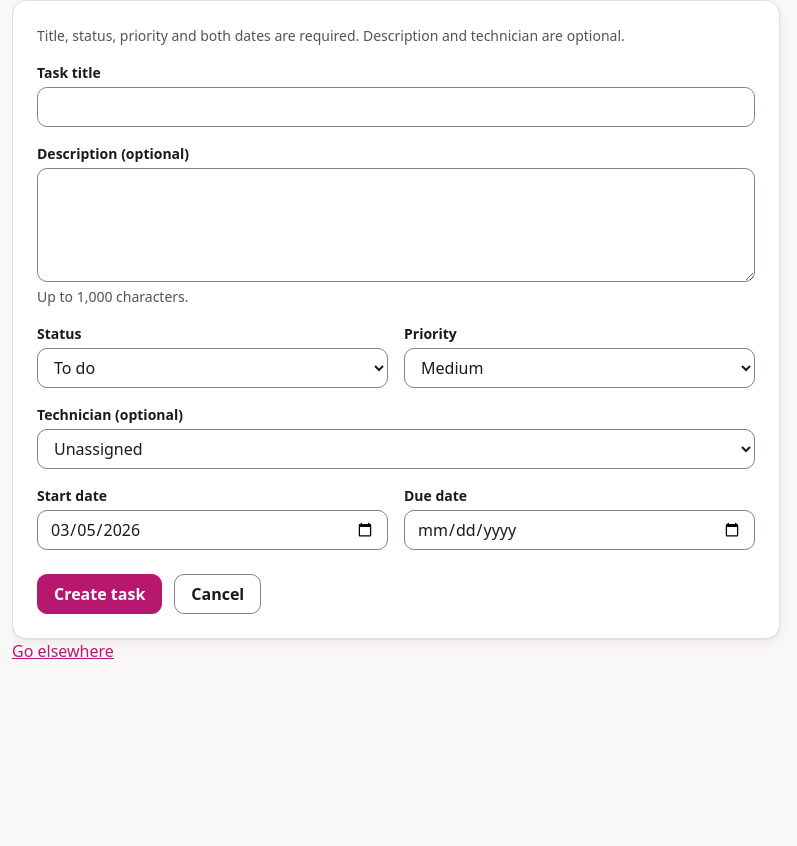
Test case: TaskForm validation › shows an error summary and field messages, and does not submit
Click the button "Create task": [100, 594] box [37,574,162,614]
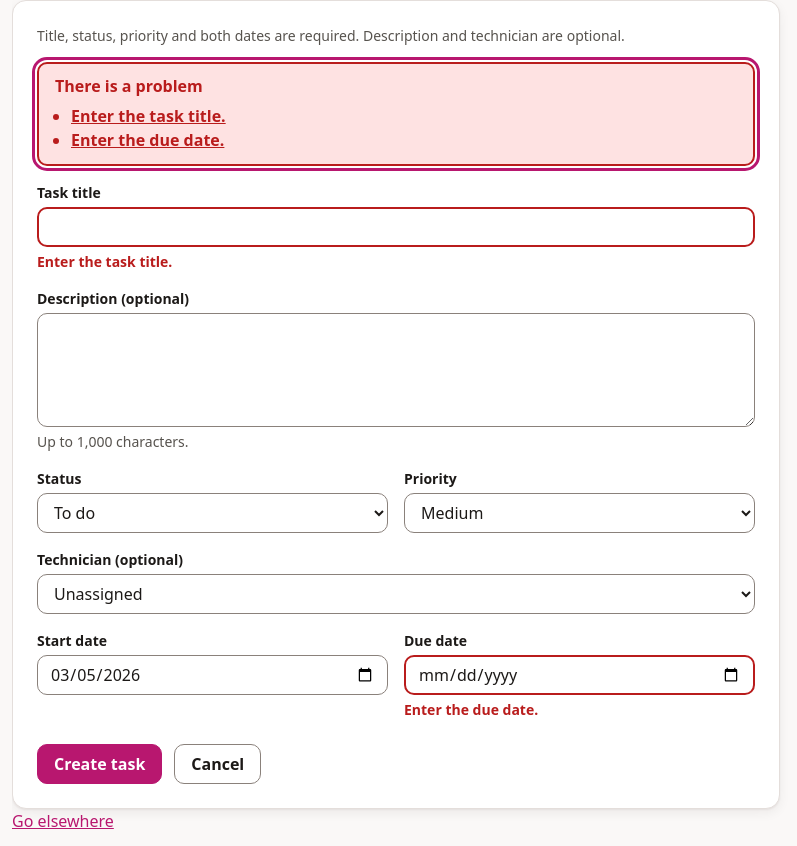
Now the link "Enter the task title." is shown, box [71,105,226,127]
Now the link "Enter the due date." is shown, box [71,129,224,151]
